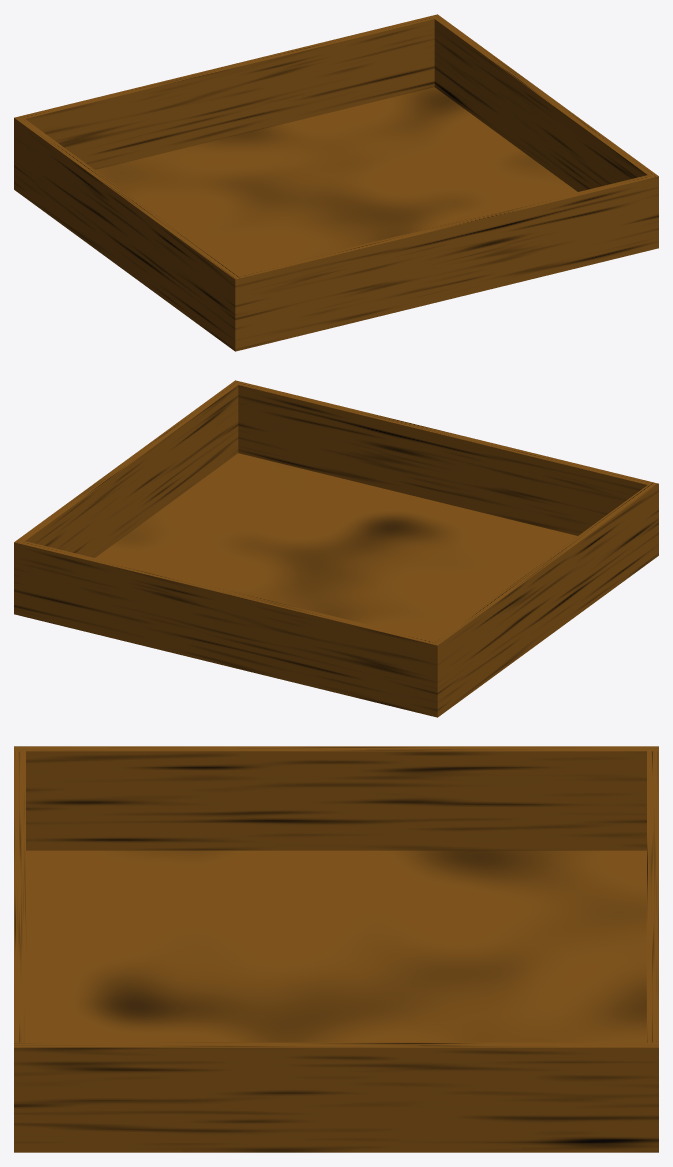
The model's file is Outer2.fbx.
3 renders of one model, top to bottom at view 1: azimuth 30°, elevation 25°; view 2: azimuth 150°, elevation 25°; view 3: azimuth 270°, elevation 25°, orthographic. The views are drawn at different scales.
Visible parts, largest first — view 1: Plane.002; view 2: Plane.002; view 3: Plane.002.
Part boxes in pixels (x1,y1,x2,y2): Plane.002: [14, 14, 658, 351]; Plane.002: [14, 380, 658, 717]; Plane.002: [14, 746, 658, 1152].
Bounding box in the file's own units: 6.66 × 1.08 × 6.03.
